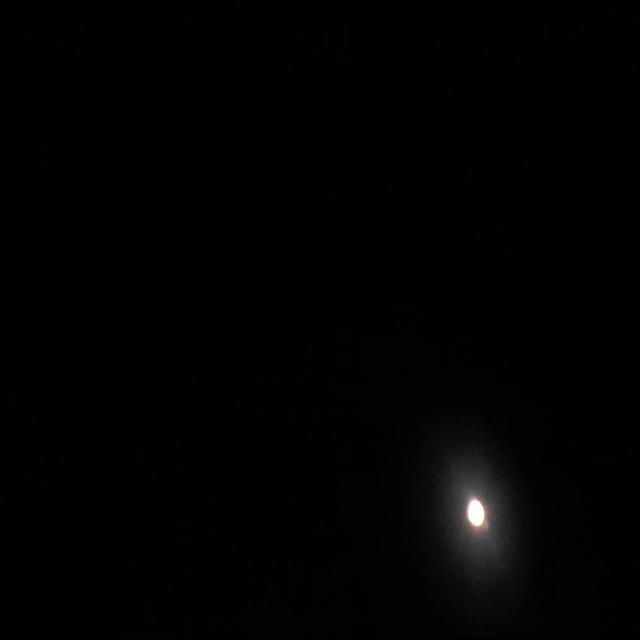moon: (466, 498, 489, 532)
